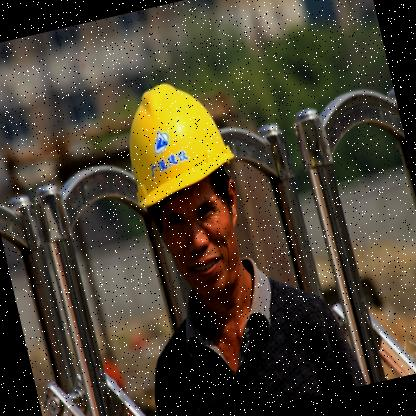capacete: (108, 67, 266, 315)
sem_colete_refletivo: (126, 249, 372, 415)
